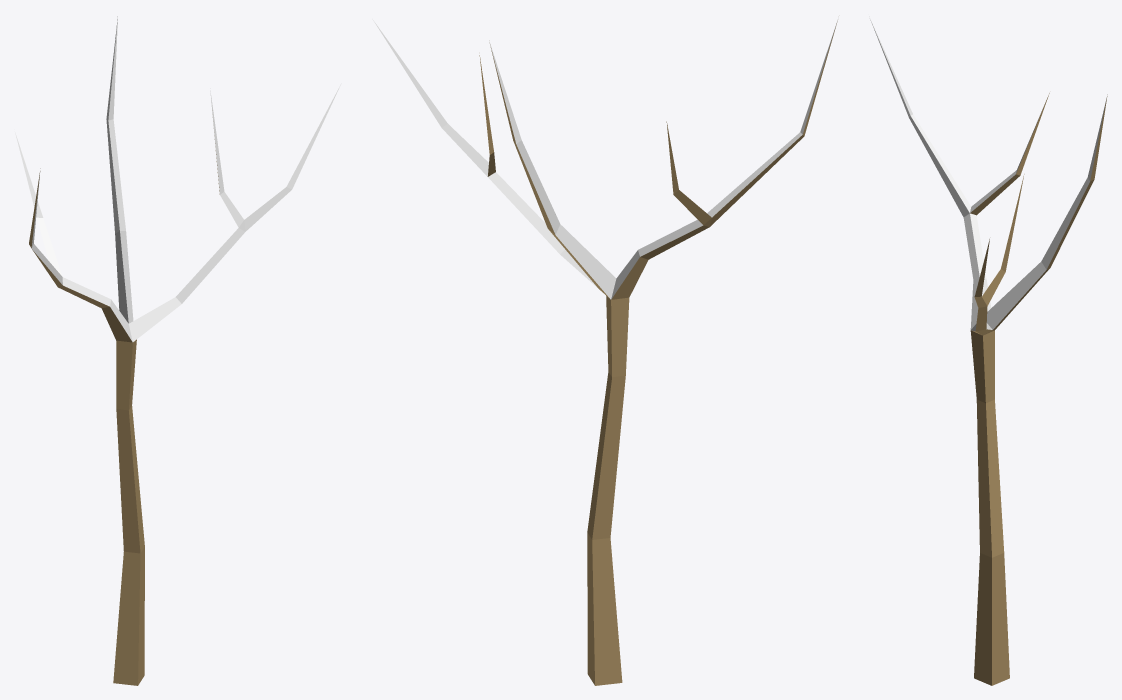
The model's file is Random_Tree_NoLeaves_s_Snow_04.fbx.
3 views of the same model, side by side, from view 1: azimuth 30°, elevation 25°; view 2: azimuth 150°, elevation 25°; view 3: azimuth 270°, elevation 25° (orthographic). The views are drawn at different scales.
Visible parts, largest first — view 1: Random_Tree_NoLeaves_s_Snow_04; view 2: Random_Tree_NoLeaves_s_Snow_04; view 3: Random_Tree_NoLeaves_s_Snow_04.
Part boxes in pixels (box(x1,y1,x2,y2)): Random_Tree_NoLeaves_s_Snow_04: box(15, 16, 341, 685); Random_Tree_NoLeaves_s_Snow_04: box(372, 19, 837, 685); Random_Tree_NoLeaves_s_Snow_04: box(869, 17, 1107, 685).
Bounding box in the file's own units: 153 × 246 × 87.72.
